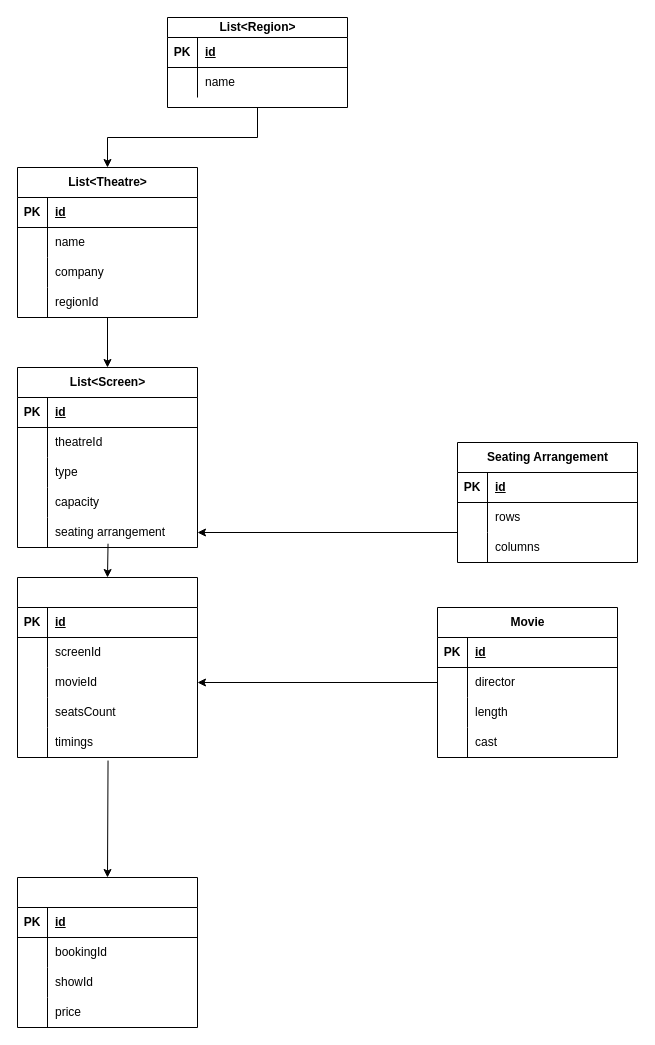
This 655x1045 diagram has some shape labels left out. The box of each missing label's shape, as (x1, y1, x2, y2) in pixels:
List<Show>: (16, 576, 198, 758)
List<Ticket>: (16, 876, 198, 1028)
